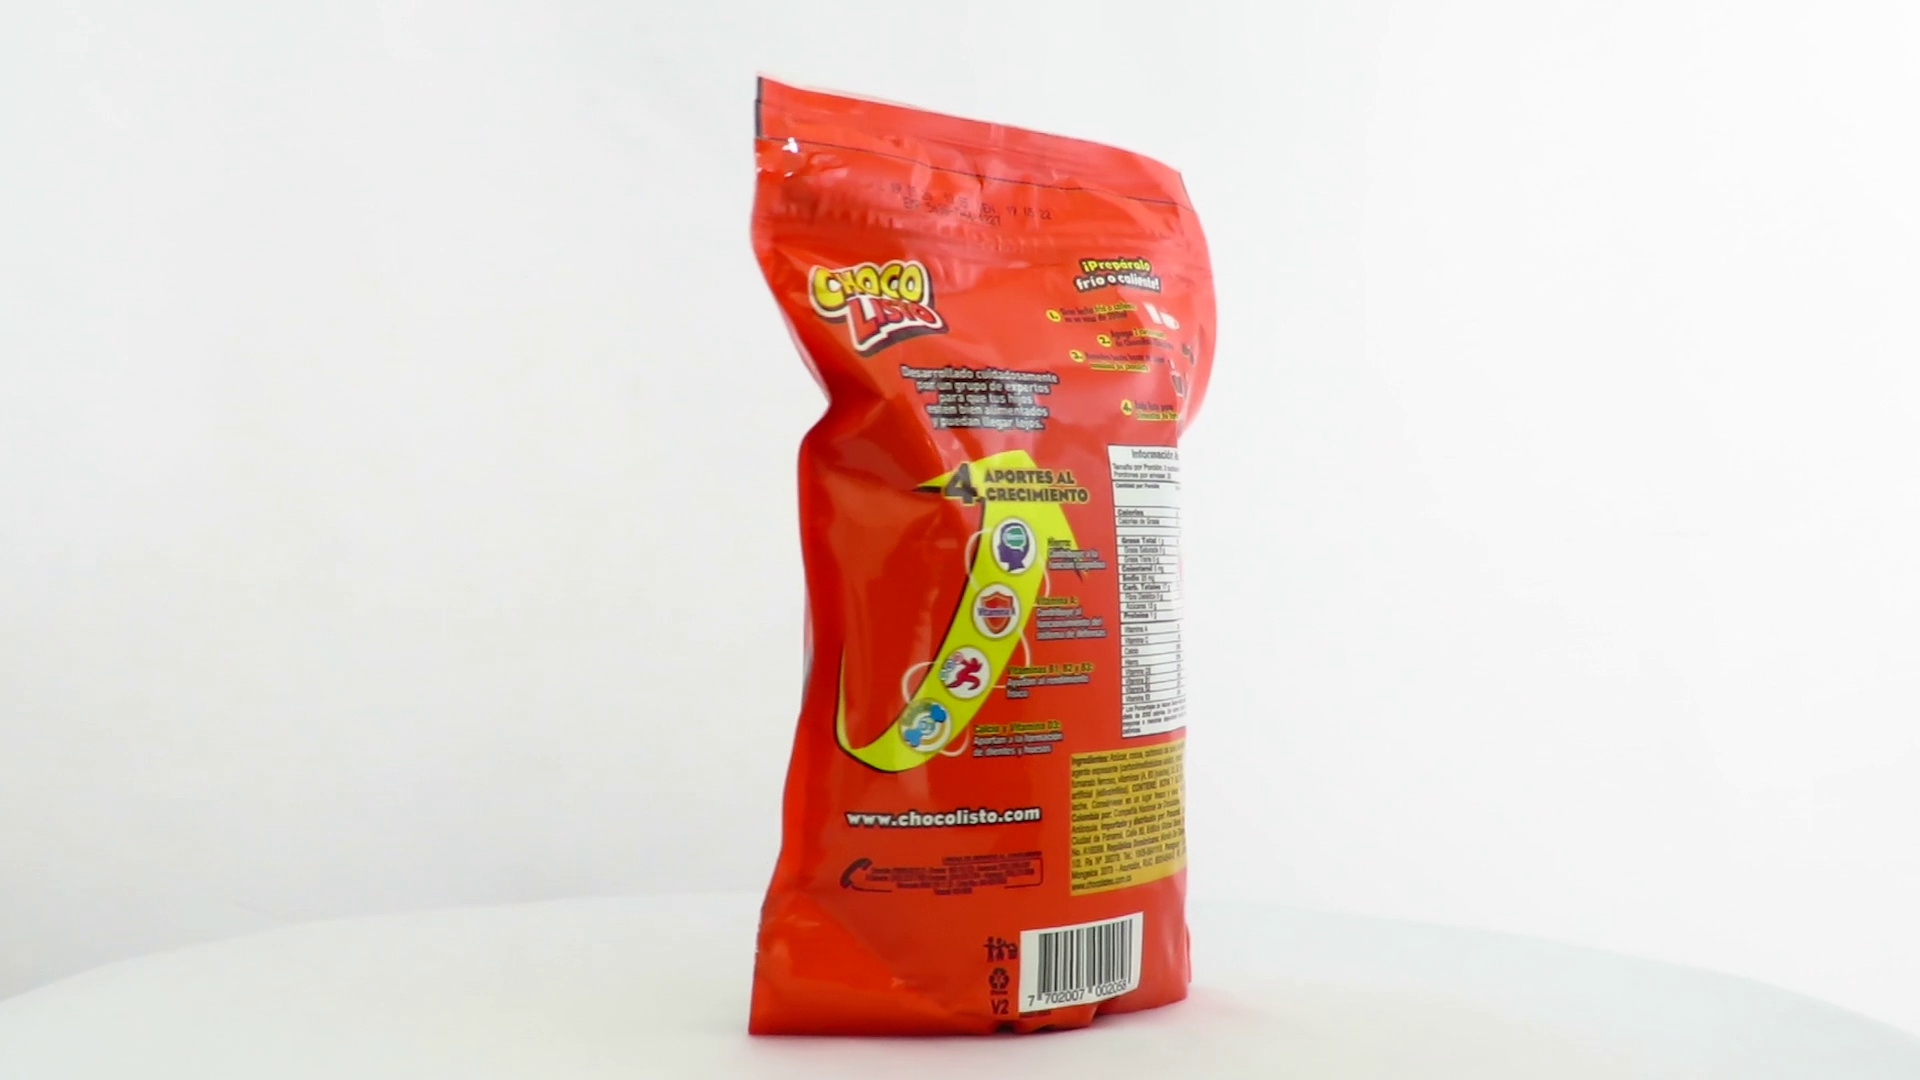COL0170103DYP40000: (742, 71, 1222, 1044)
